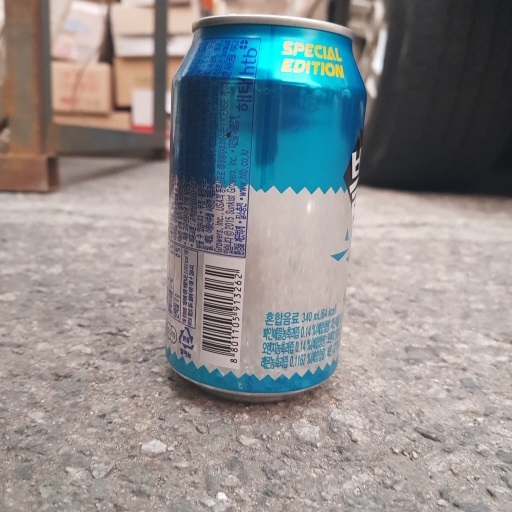Metal_0: (161, 14, 370, 399)
